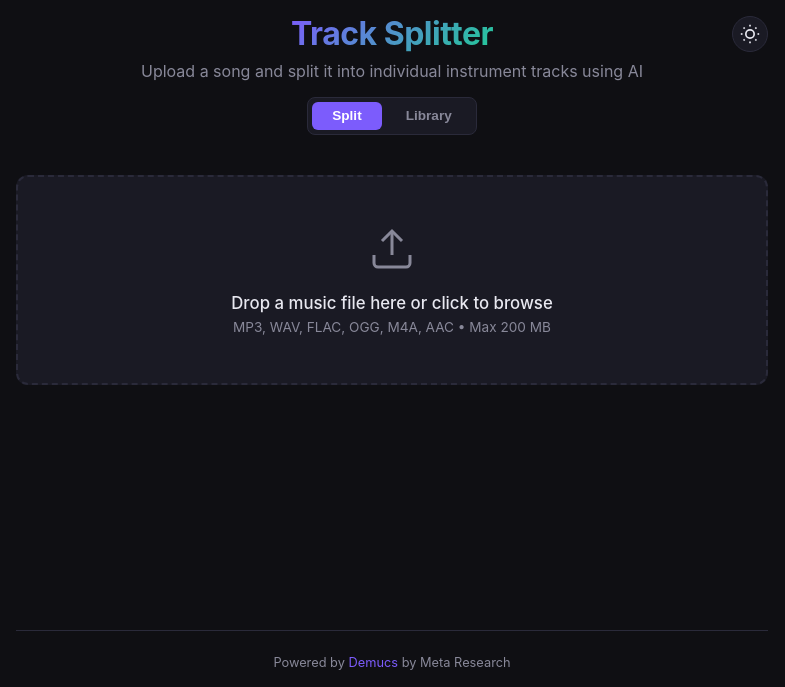
Test: App › switches to library view when Library tab is clicked
Click the tab "Library" at (429, 116), box left=386, top=102, right=472, bottom=130
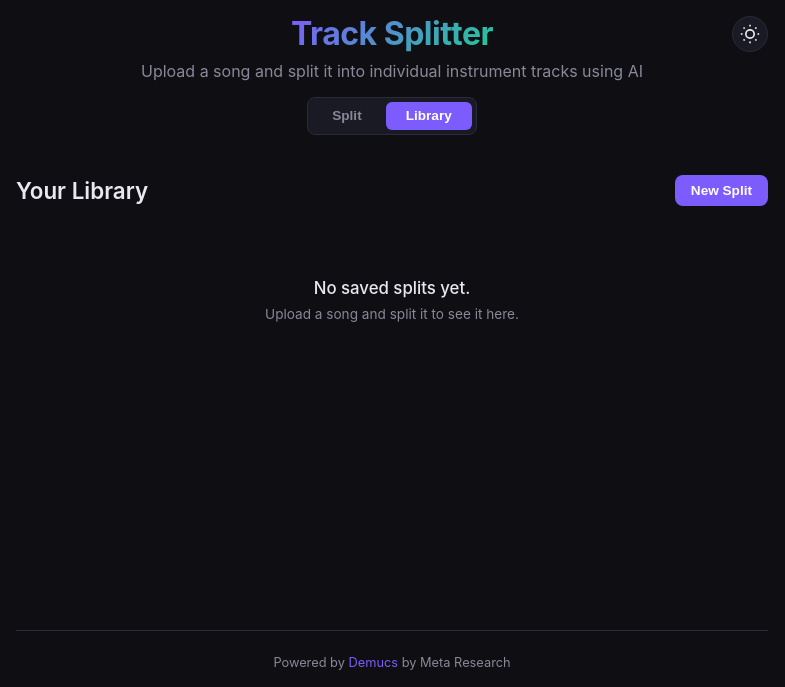
Result: the heading "Your Library" is shown at left=16, top=177, right=148, bottom=204
Result: the text "No saved splits yet." is shown at left=314, top=278, right=470, bottom=298
